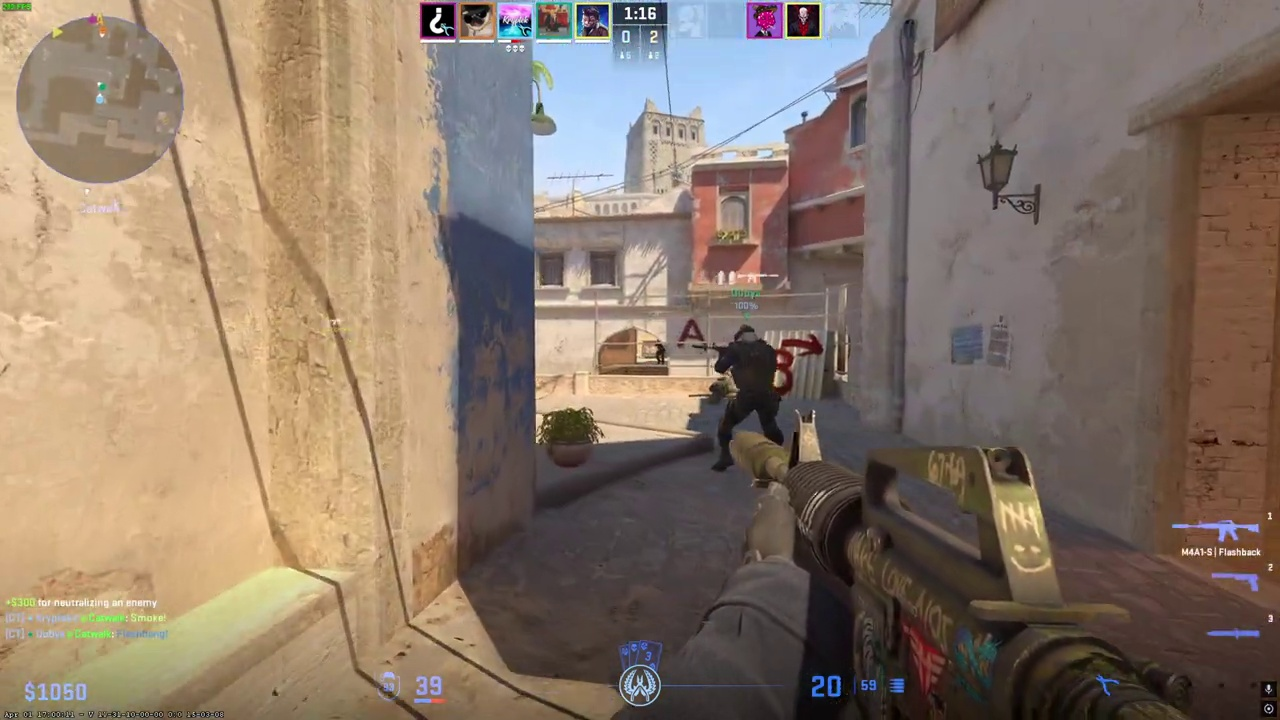CT: (713, 326, 787, 470)
